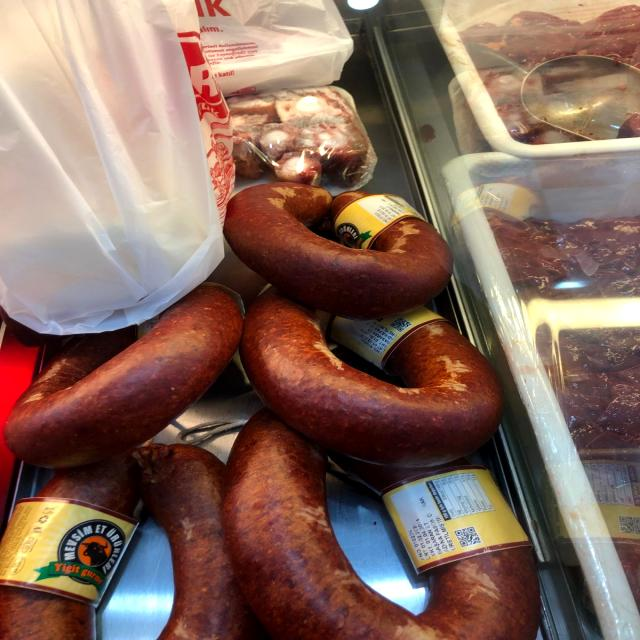sausage: (244, 410, 537, 640), (224, 278, 516, 464), (1, 434, 239, 640), (220, 161, 456, 316)
